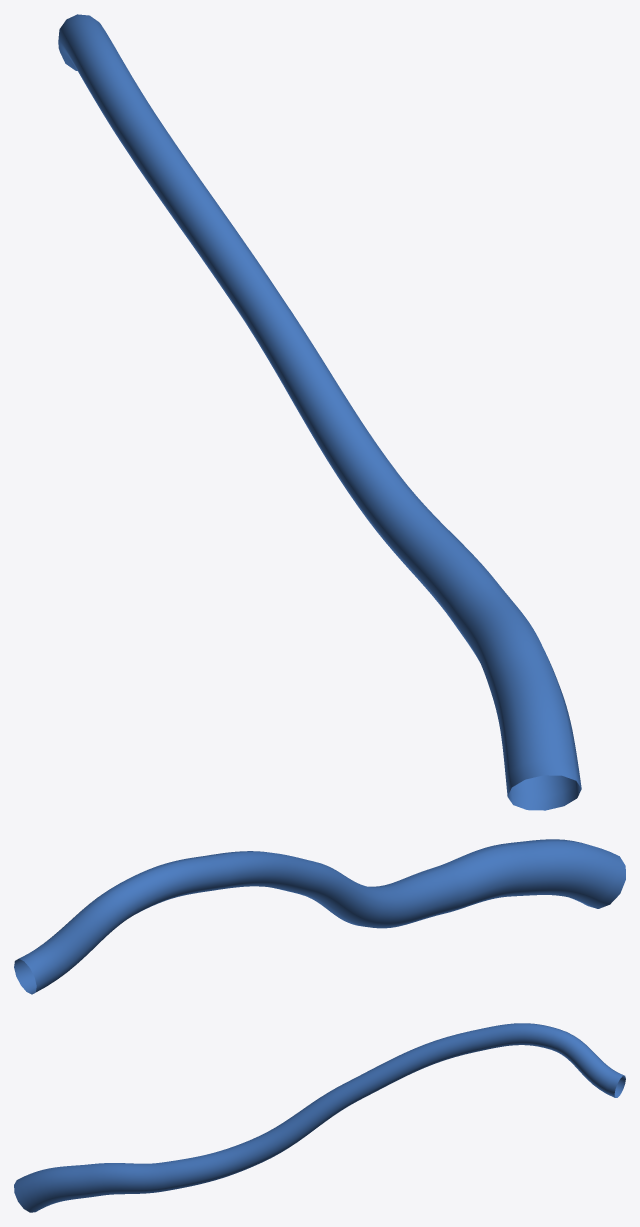
3 renders of one model, top to bottom at view 1: azimuth 30°, elevation 25°; view 2: azimuth 150°, elevation 25°; view 3: azimuth 270°, elevation 25°, orthographic. The views are drawn at different scales.
Visible parts, largest first — view 1: 左侧腘静脉; view 2: 左侧腘静脉; view 3: 左侧腘静脉.
Boxes of the visible parts, <box> form: 左侧腘静脉: <box>58,14,581,810</box>; 左侧腘静脉: <box>14,839,625,994</box>; 左侧腘静脉: <box>14,1023,625,1212</box>.
Bounding box in the file's own units: 0.0414 × 0.0868 × 0.2419.
